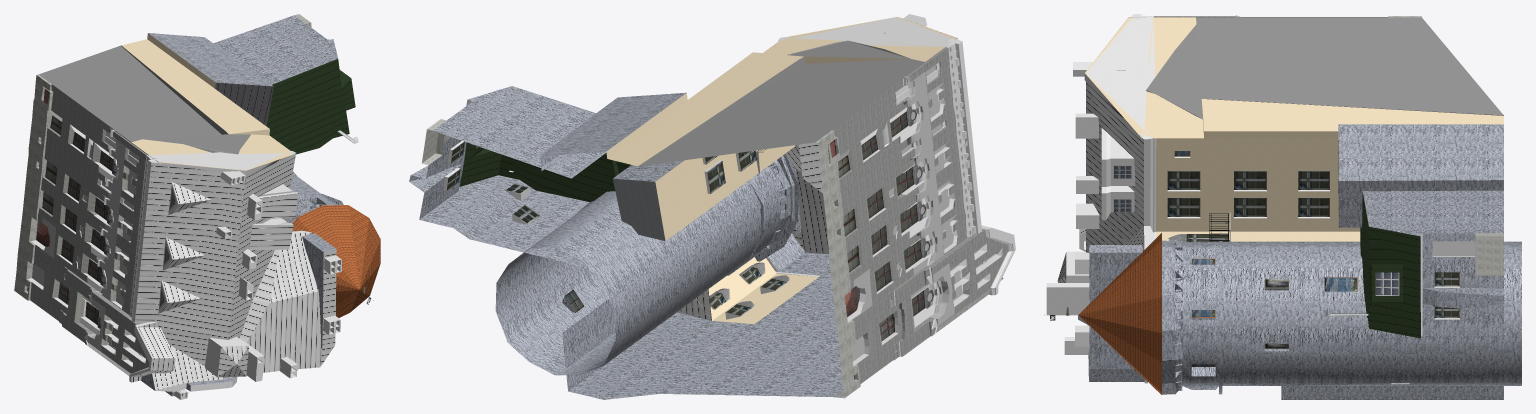
Rendered from Pikk_62-origo.obj.
The picture shows the model from 3 angles, left to right: view 1: azimuth 30°, elevation 25°; view 2: azimuth 150°, elevation 25°; view 3: azimuth 270°, elevation 25°; orthographic projection. The views are drawn at different scales.
Visible parts, largest first — view 1: Pikk_62, xxx; view 2: Pikk_62, xxx; view 3: Pikk_62, xxx.
Part boxes in pixels (bbox=[...]): Pikk_62: bbox=[14, 14, 380, 399]; xxx: bbox=[39, 45, 250, 154]; Pikk_62: bbox=[409, 14, 1015, 399]; xxx: bbox=[638, 40, 924, 166]; Pikk_62: bbox=[1044, 14, 1521, 399]; xxx: bbox=[1146, 17, 1503, 119].
Bounding box in the file's own units: 29.62 × 19 × 29.55.
